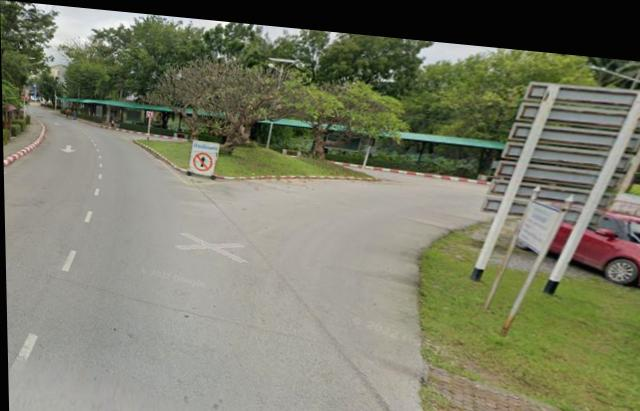not_go_straight: (191, 144, 212, 172)
